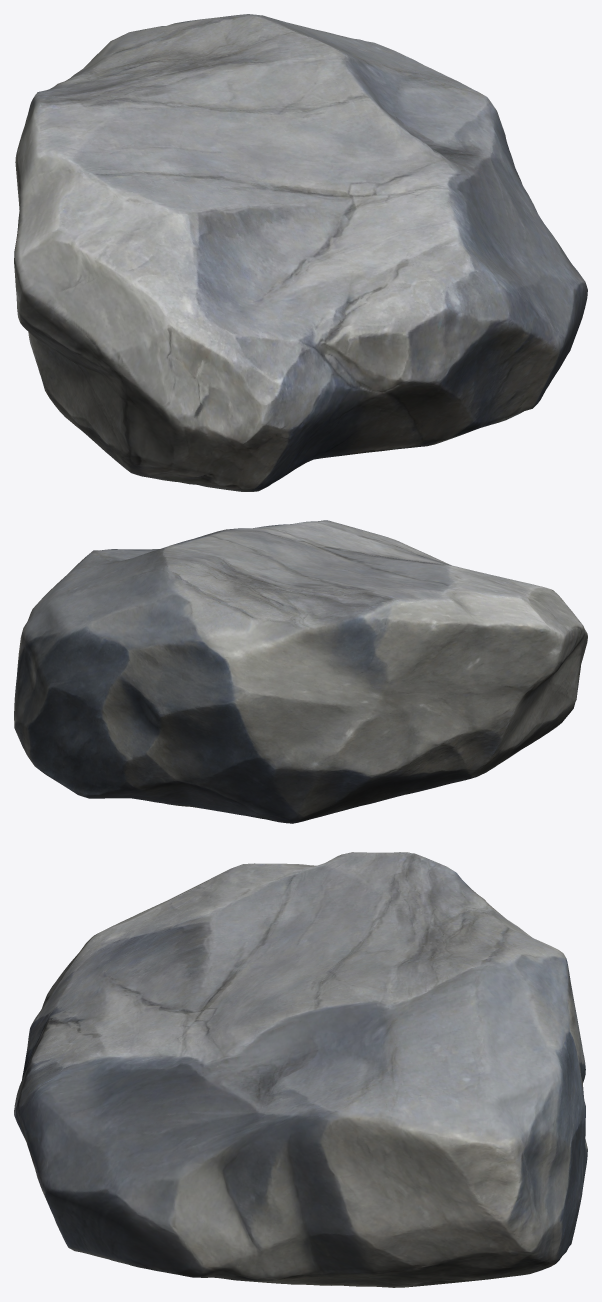
File: rock.glb
The picture shows the model from 3 angles, top to bottom: view 1: azimuth 30°, elevation 25°; view 2: azimuth 150°, elevation 25°; view 3: azimuth 270°, elevation 25°; orthographic projection. The views are drawn at different scales.
Bounding box in the file's own units: 1.99 × 1 × 1.87.
Materials: 1 (1 with a texture image).
